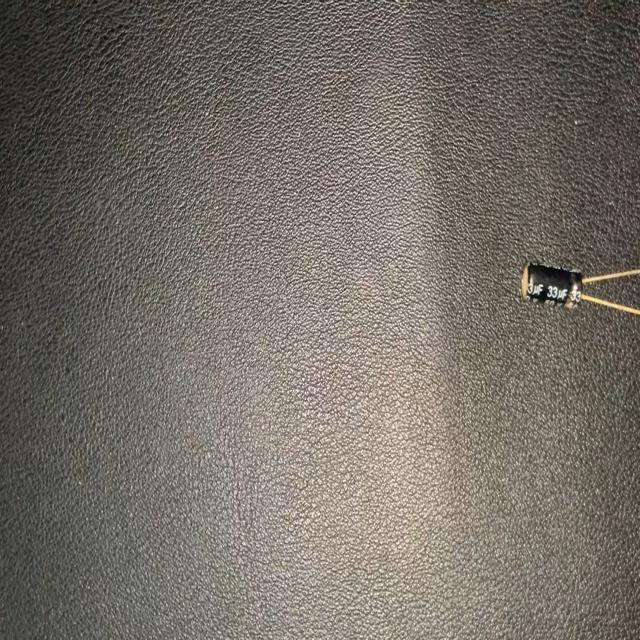defective: (519, 246, 590, 326)
